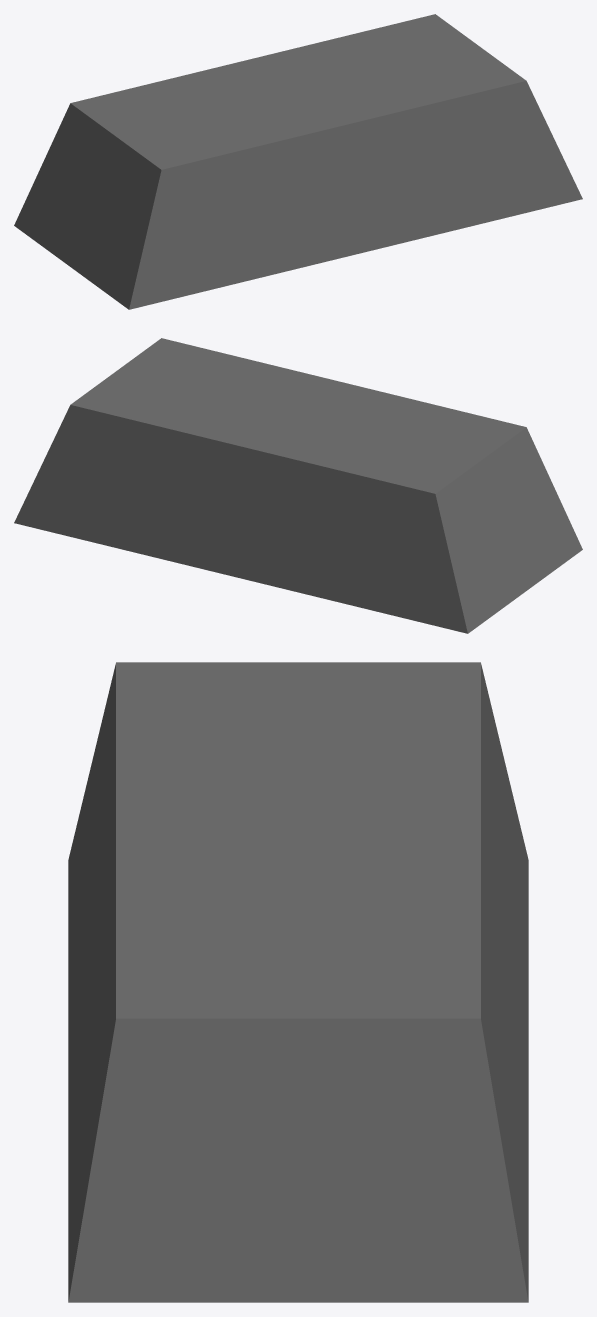
File: metal_bar.glb
The picture shows the model from 3 angles, top to bottom: view 1: azimuth 30°, elevation 25°; view 2: azimuth 150°, elevation 25°; view 3: azimuth 270°, elevation 25°; orthographic projection. The views are drawn at different scales.
Parts seen in each view (by area): view 1: Cube; view 2: Cube; view 3: Cube.
Part boxes in pixels (x1,y1,x2,y2): Cube: (14,14,582,309); Cube: (14,338,582,633); Cube: (68,662,528,1302).
Bounding box in the file's own units: 0.5517 × 0.1399 × 0.2421.
Materials: 1 (1 with a texture image).
